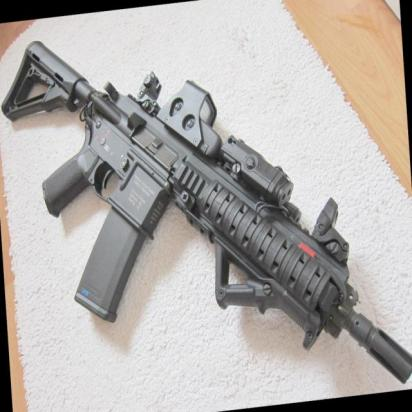Gun: (0, 38, 412, 389)
